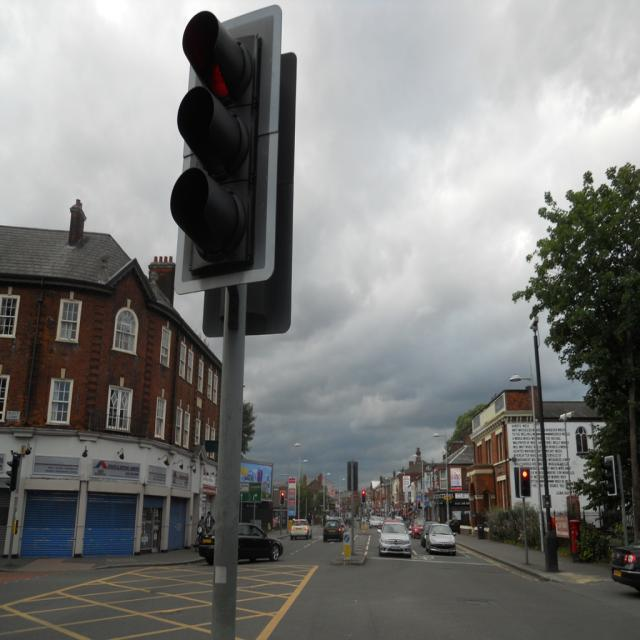off traffic light: (601, 457, 617, 495)
traffic light: (167, 4, 262, 273), (519, 466, 532, 498)
